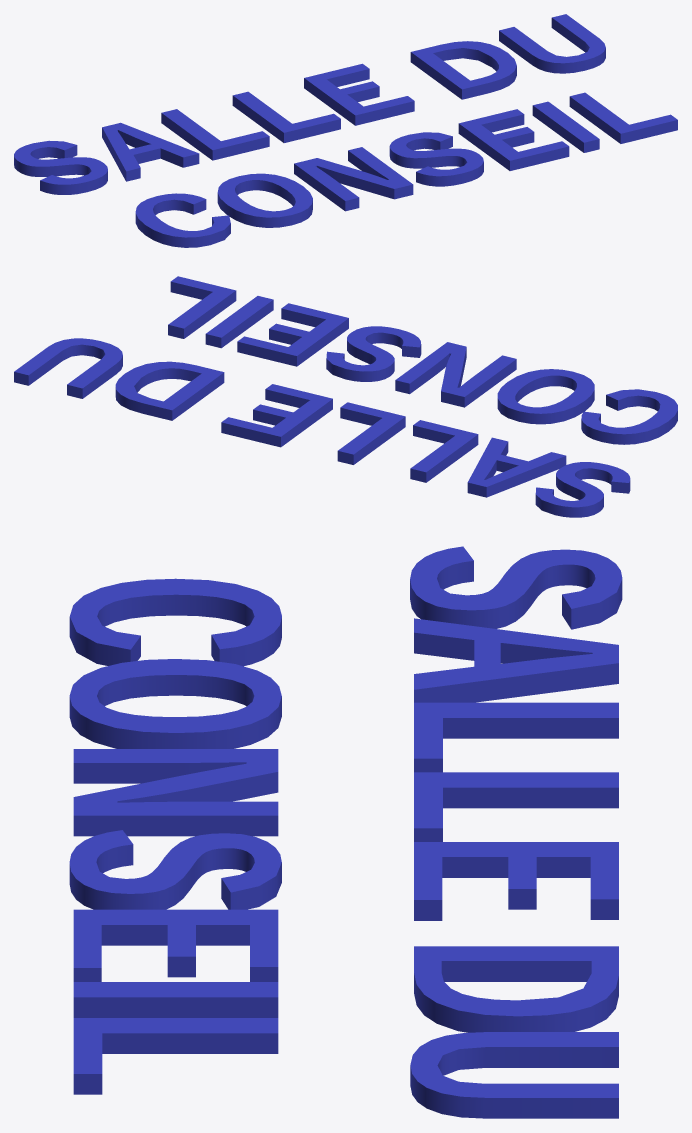
The model's file is salleduconseil.fbx.
3 views of the same model, one above another, from view 1: azimuth 30°, elevation 25°; view 2: azimuth 150°, elevation 25°; view 3: azimuth 270°, elevation 25° (orthographic). The views are drawn at different scales.
Parts seen in each view (by area): view 1: node_id35 (×2); view 2: node_id35 (×2); view 3: node_id35 (×2).
Boxes of the visible parts, x1,y1,x2,y2 form: node_id35 (×2): (14, 14, 677, 247); node_id35 (×2): (14, 276, 677, 517); node_id35 (×2): (69, 546, 622, 1118).
Bounding box in the file's own units: 1.07 × 0.0188 × 0.4526.
